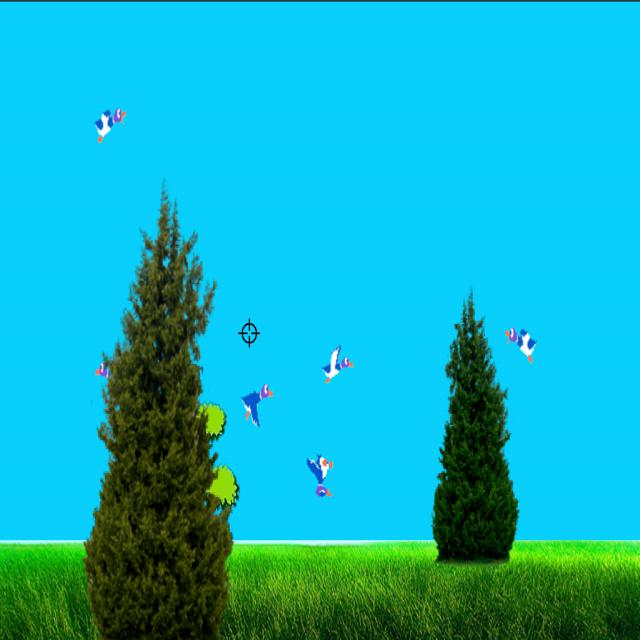duck: (236, 377, 275, 433), (318, 342, 360, 389), (507, 316, 543, 364), (92, 105, 130, 150), (92, 352, 116, 392)
falling_duck: (304, 440, 340, 510)
